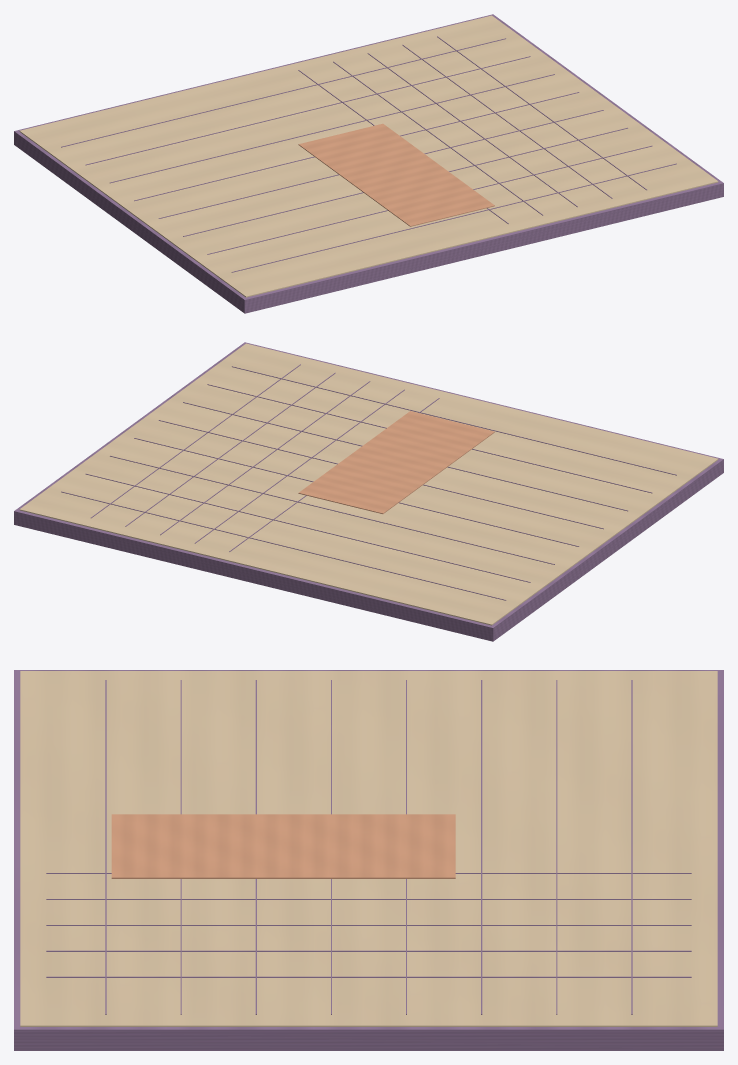
File: atlas100-s082-a07.lod2.glb
3 views of the same model, one above another, from view 1: azimuth 30°, elevation 25°; view 2: azimuth 150°, elevation 25°; view 3: azimuth 270°, elevation 25° (orthographic). The views are drawn at different scales.
Visible parts, largest first — view 1: atlas100-s082-a07:part-001, atlas100-s082-a07:part-000, atlas100-s082-a07:part-021, atlas100-s082-a07:part-020, atlas100-s082-a07:part-014, atlas100-s082-a07:part-013, atlas100-s082-a07:part-015, atlas100-s082-a07:part-016, atlas100-s082-a07:part-018, atlas100-s082-a07:part-019, atlas100-s082-a07:part-017; view 2: atlas100-s082-a07:part-001, atlas100-s082-a07:part-000, atlas100-s082-a07:part-021, atlas100-s082-a07:part-013, atlas100-s082-a07:part-014, atlas100-s082-a07:part-015, atlas100-s082-a07:part-020, atlas100-s082-a07:part-017, atlas100-s082-a07:part-019, atlas100-s082-a07:part-018, atlas100-s082-a07:part-016; view 3: atlas100-s082-a07:part-001, atlas100-s082-a07:part-000, atlas100-s082-a07:part-021, atlas100-s082-a07:part-011, atlas100-s082-a07:part-012, atlas100-s082-a07:part-013, atlas100-s082-a07:part-014, atlas100-s082-a07:part-015, atlas100-s082-a07:part-020, atlas100-s082-a07:part-010, atlas100-s082-a07:part-009.
Part boxes in pixels (<box>): atlas100-s082-a07:part-001: <box>19,15,718,297</box>; atlas100-s082-a07:part-000: <box>14,14,723,313</box>; atlas100-s082-a07:part-021: <box>298,123,494,226</box>; atlas100-s082-a07:part-020: <box>231,163,676,272</box>; atlas100-s082-a07:part-014: <box>85,56,530,165</box>; atlas100-s082-a07:part-013: <box>61,38,505,147</box>; atlas100-s082-a07:part-015: <box>110,74,554,183</box>; atlas100-s082-a07:part-016: <box>134,92,579,201</box>; atlas100-s082-a07:part-018: <box>183,127,627,236</box>; atlas100-s082-a07:part-019: <box>207,145,652,254</box>; atlas100-s082-a07:part-017: <box>158,110,603,218</box>; atlas100-s082-a07:part-001: <box>19,343,718,625</box>; atlas100-s082-a07:part-000: <box>14,342,723,641</box>; atlas100-s082-a07:part-021: <box>298,411,494,513</box>; atlas100-s082-a07:part-013: <box>61,491,506,600</box>; atlas100-s082-a07:part-014: <box>85,473,530,582</box>; atlas100-s082-a07:part-015: <box>110,455,554,564</box>; atlas100-s082-a07:part-020: <box>232,366,676,475</box>; atlas100-s082-a07:part-017: <box>158,420,603,529</box>; atlas100-s082-a07:part-019: <box>207,384,652,493</box>; atlas100-s082-a07:part-018: <box>183,402,627,511</box>; atlas100-s082-a07:part-016: <box>134,438,579,546</box>; atlas100-s082-a07:part-001: <box>20,671,717,1026</box>; atlas100-s082-a07:part-000: <box>14,670,723,1050</box>; atlas100-s082-a07:part-021: <box>111,814,455,878</box>; atlas100-s082-a07:part-011: <box>46,950,691,951</box>; atlas100-s082-a07:part-012: <box>46,976,691,977</box>; atlas100-s082-a07:part-013: <box>631,680,632,1014</box>; atlas100-s082-a07:part-014: <box>556,680,557,1014</box>; atlas100-s082-a07:part-015: <box>481,680,482,1014</box>; atlas100-s082-a07:part-020: <box>105,680,106,1014</box>; atlas100-s082-a07:part-010: <box>46,925,691,925</box>; atlas100-s082-a07:part-009: <box>46,899,691,899</box>.
Size of the model in its own units: 12.46 by 0.404 by 10.4.
3 materials, 3 textured.
